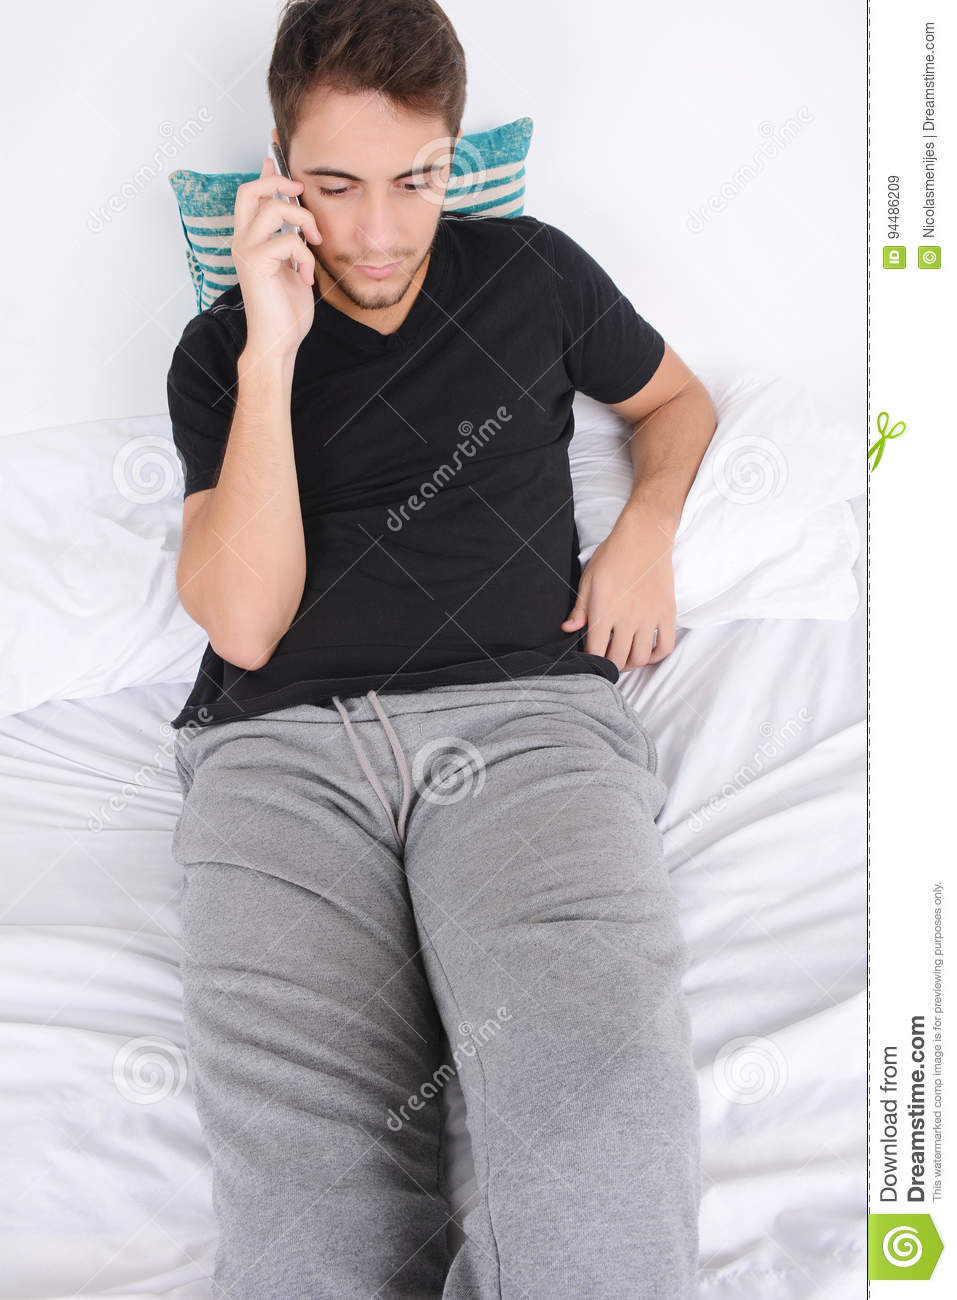phone: (259, 139, 312, 276)
talk: (230, 138, 448, 359)
